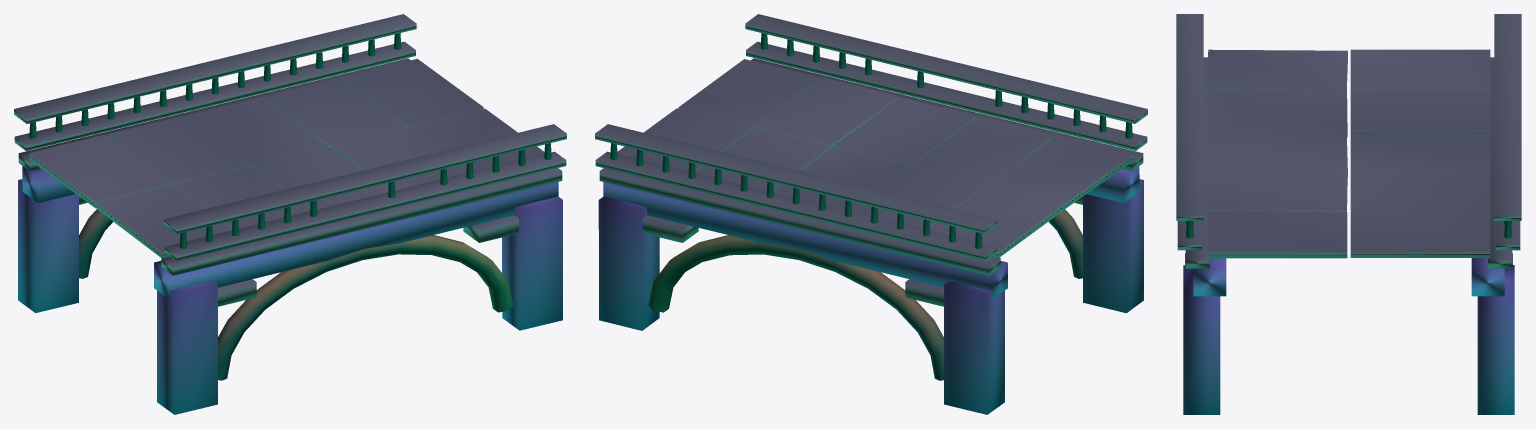
File: vey_gallery_walk_6m.glb
3 renders of one model, left to right at view 1: azimuth 30°, elevation 25°; view 2: azimuth 150°, elevation 25°; view 3: azimuth 270°, elevation 25°, orthographic. The views are drawn at different scales.
Visible parts, largest first — view 1: vey_gallery_walk_6m; view 2: vey_gallery_walk_6m; view 3: vey_gallery_walk_6m.
Boxes of the visible parts, x1,y1,x2,y2 form: vey_gallery_walk_6m: [14, 14, 566, 414]; vey_gallery_walk_6m: [595, 14, 1147, 414]; vey_gallery_walk_6m: [1176, 14, 1521, 414].
Size of what is drawn, in the model's own units: 5.99 by 2.78 by 4.34.
